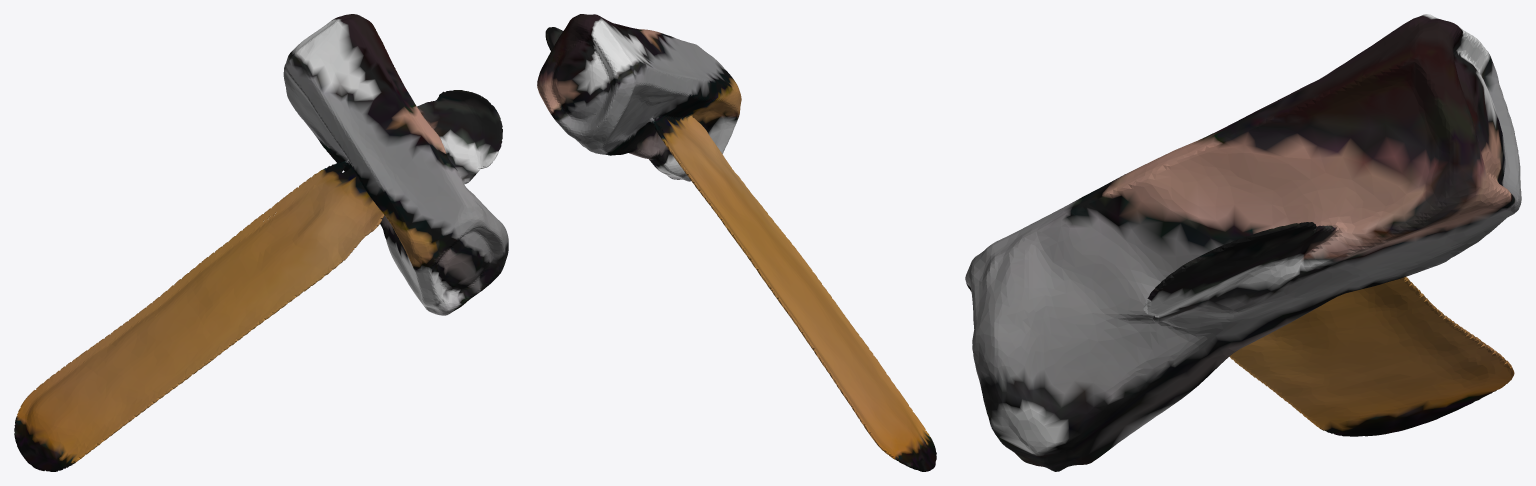
The model's file is hammer_2.glb.
The picture shows the model from 3 angles, left to right: view 1: azimuth 30°, elevation 25°; view 2: azimuth 150°, elevation 25°; view 3: azimuth 270°, elevation 25°; orthographic projection. The views are drawn at different scales.
Parts seen in each view (by area): view 1: geometry_0; view 2: geometry_0; view 3: geometry_0.
Boxes of the visible parts, x1,y1,x2,y2 form: geometry_0: (14,14,508,471); geometry_0: (537,14,936,471); geometry_0: (965,14,1521,471).
Bounding box in the file's own units: 0.7812 × 0.6551 × 0.4563.
